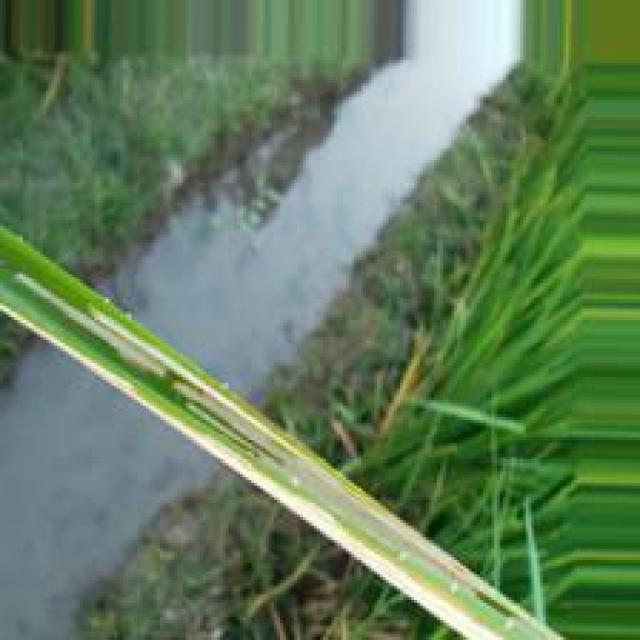Rice_Hispa: (0, 264, 572, 640)
